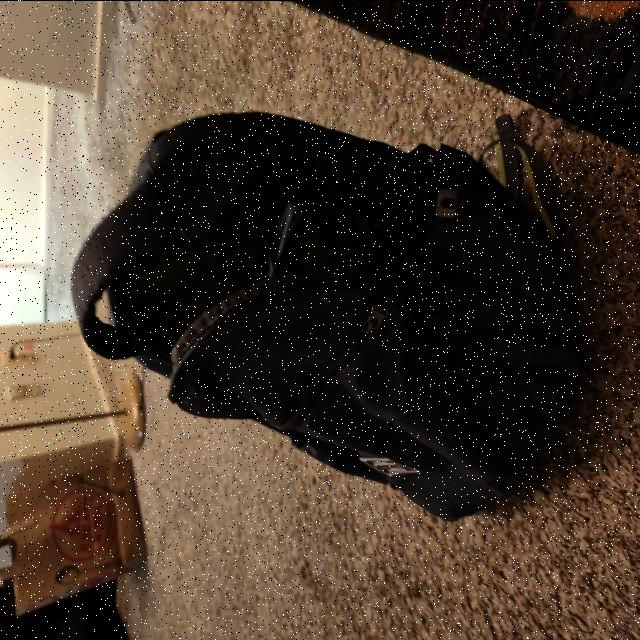bag: (95, 118, 576, 511)
